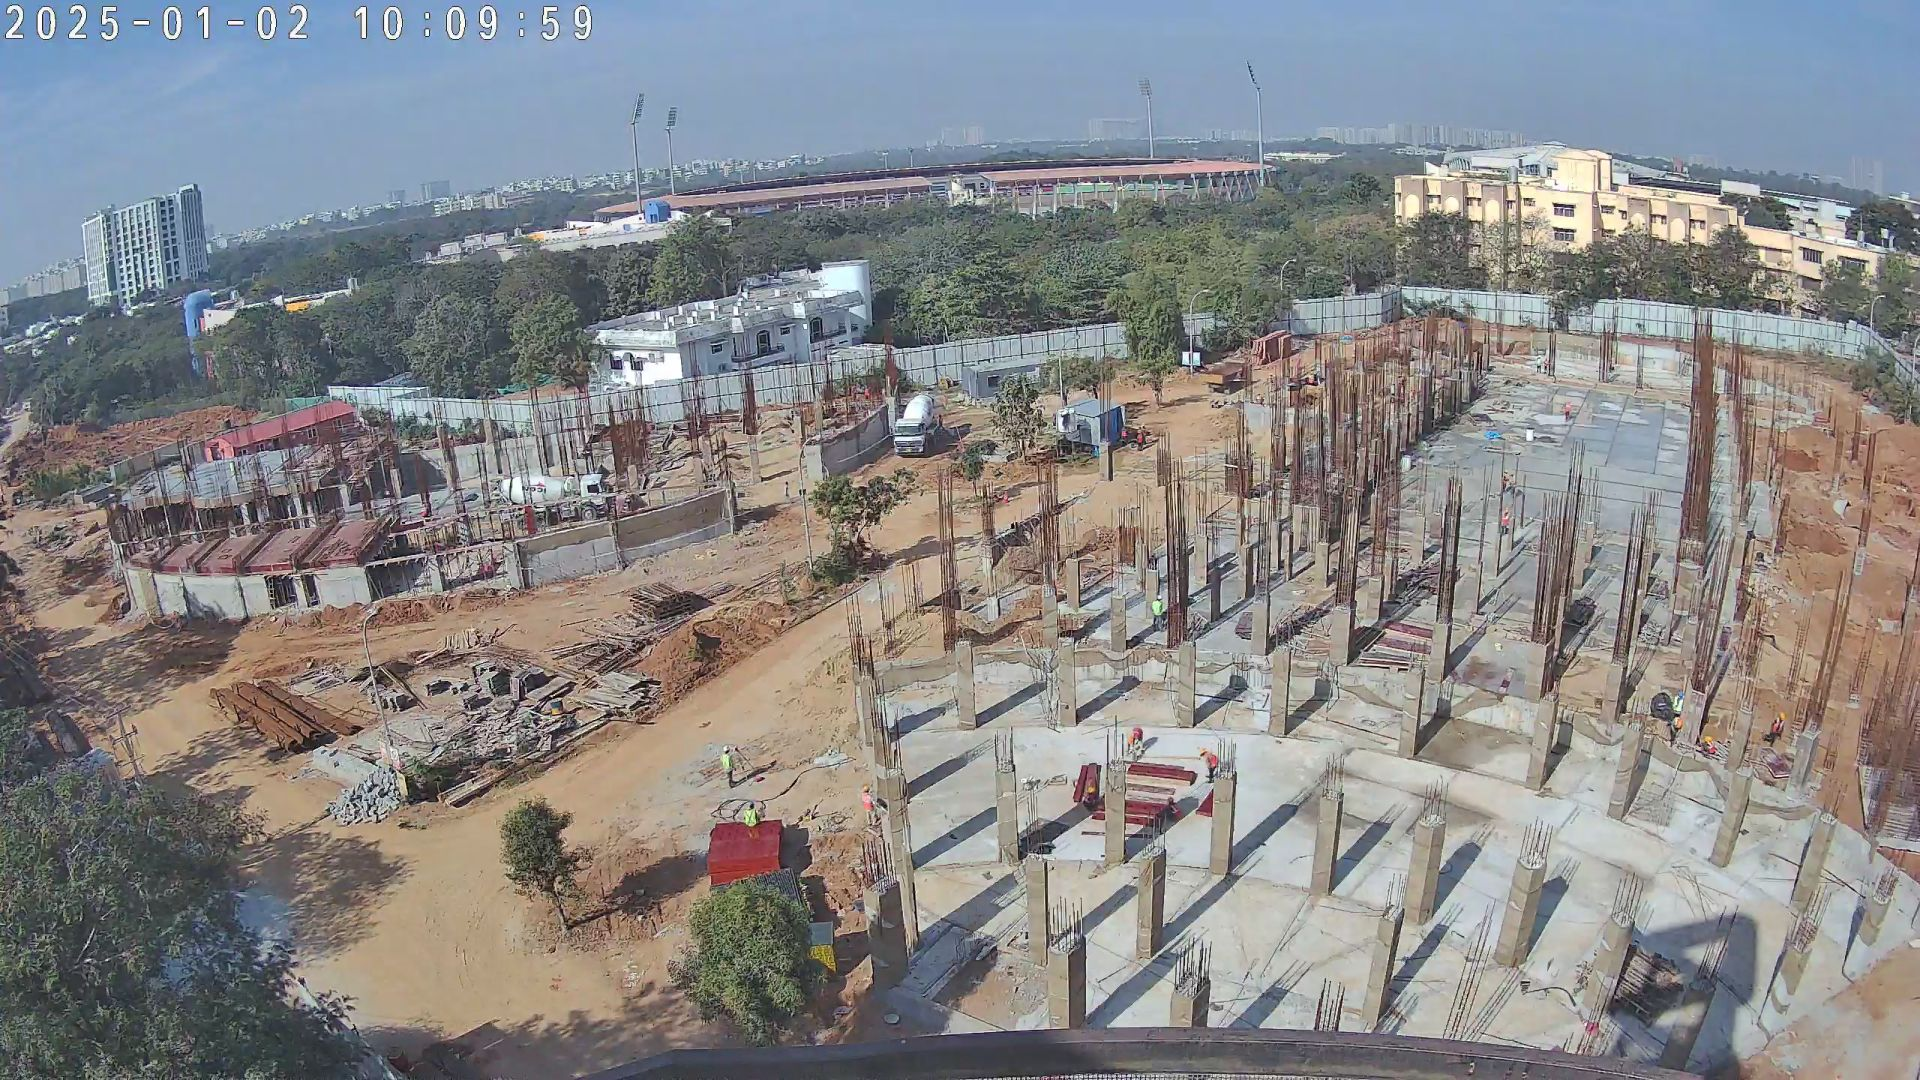truck: (493, 470, 614, 527), (889, 391, 937, 457)
worker: (718, 741, 745, 790), (858, 783, 884, 828), (1199, 745, 1226, 785), (1148, 590, 1170, 636), (1767, 710, 1788, 753), (740, 801, 765, 832), (1665, 712, 1686, 748), (1124, 724, 1146, 757), (1698, 735, 1722, 763), (1497, 502, 1515, 537), (1672, 688, 1686, 716), (1560, 400, 1574, 423), (1135, 428, 1146, 453), (1507, 474, 1518, 495), (1139, 423, 1150, 443), (1119, 425, 1129, 446), (1501, 469, 1509, 493), (1542, 355, 1551, 376), (1535, 355, 1543, 376)
